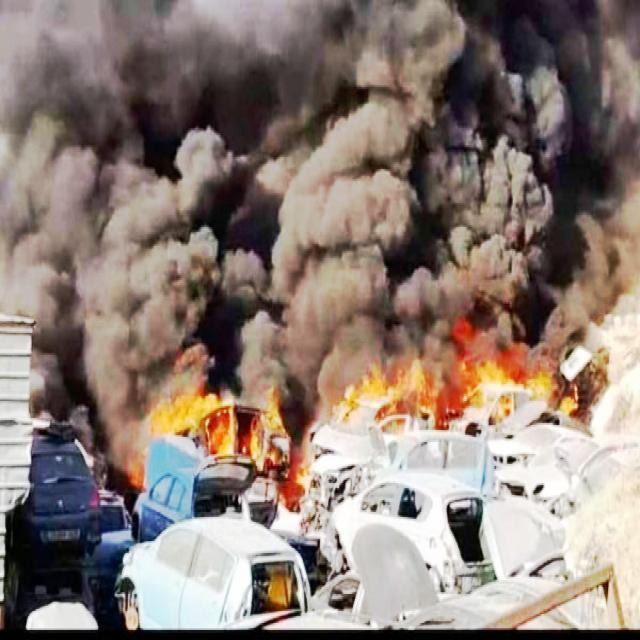api: (364, 368, 446, 422), (460, 346, 531, 397), (150, 397, 227, 442), (257, 392, 286, 438), (134, 457, 149, 486)
asap: (11, 1, 632, 365), (64, 335, 146, 452), (158, 339, 278, 386), (285, 368, 347, 409)
